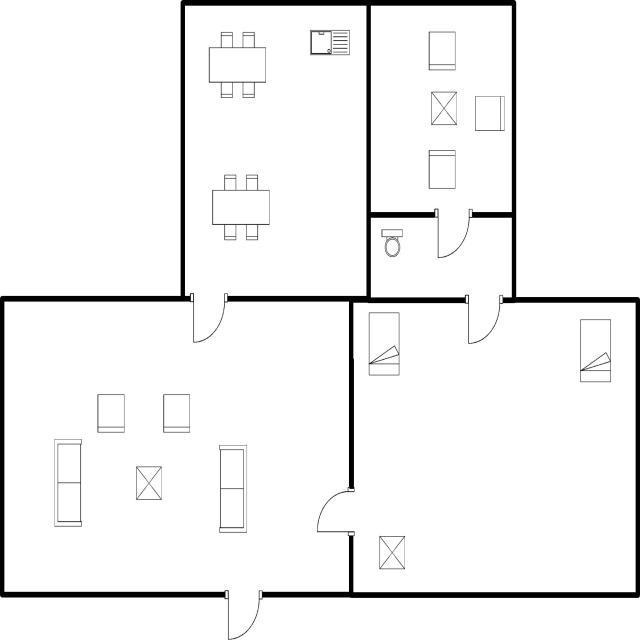bed: (577, 315, 614, 387), (365, 309, 403, 379)
coffee_table: (132, 462, 165, 506), (376, 529, 409, 572), (427, 88, 460, 130)
dining_table: (203, 27, 270, 104), (208, 170, 272, 245)
large_sink: (376, 224, 405, 261)
large_sofa: (48, 434, 86, 531), (215, 440, 251, 537)
sink: (307, 25, 351, 61)
small_sofa: (424, 146, 459, 194), (160, 390, 193, 439), (424, 28, 458, 74), (473, 90, 507, 136), (94, 391, 127, 438)
